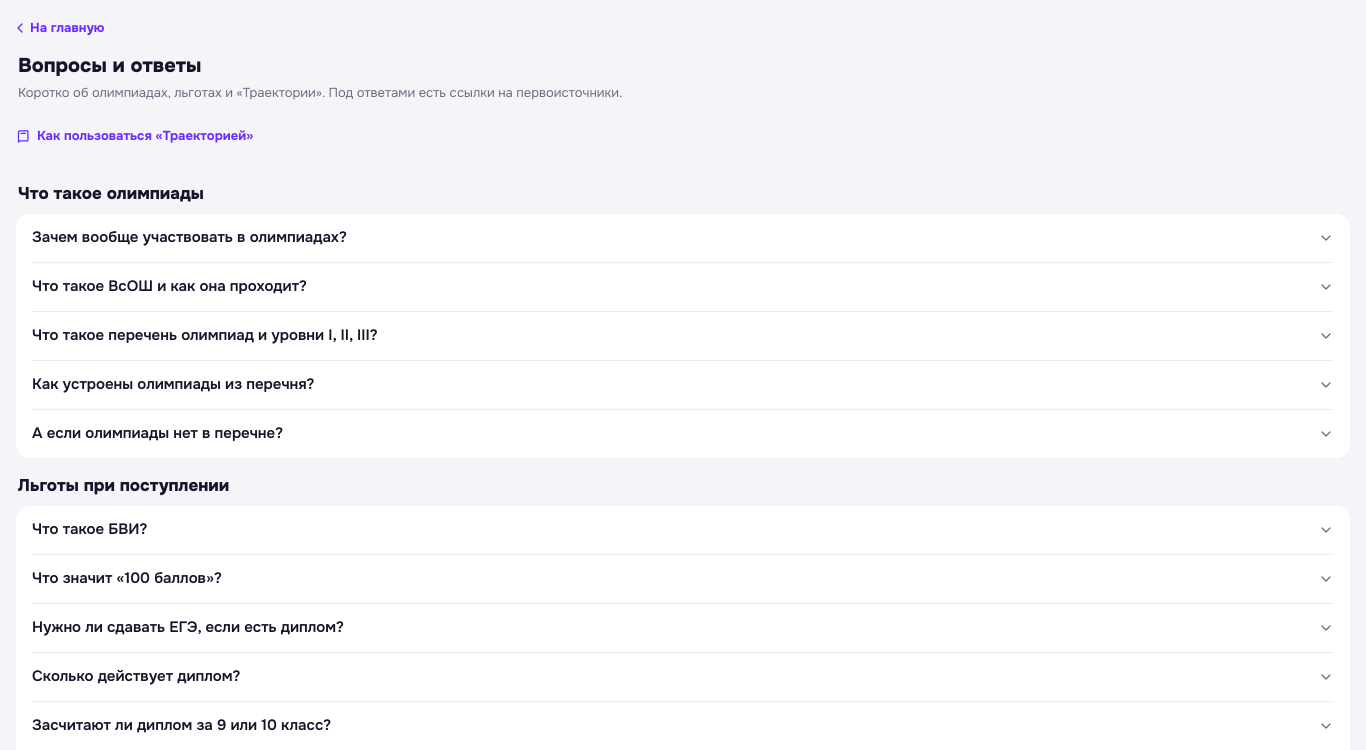
Scenario: родителю отвечает на «вы» и о ребёнке по имени
Click the heading "Нужно ли сдавать ЕГЭ, если есть диплом?".
click(188, 627)  # box [32,617,1334,637]
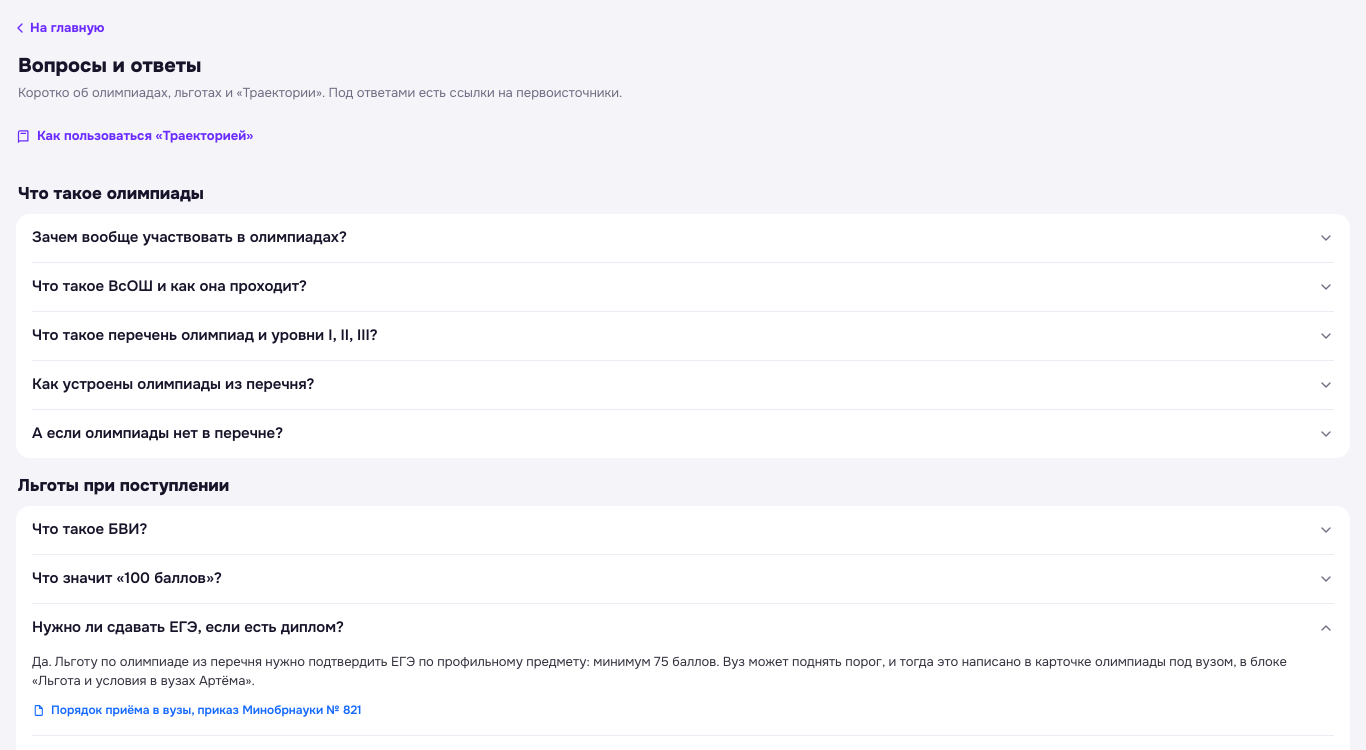
expect the text "в вузах Артёма" is shown: met, box [32,653,1287,689]
